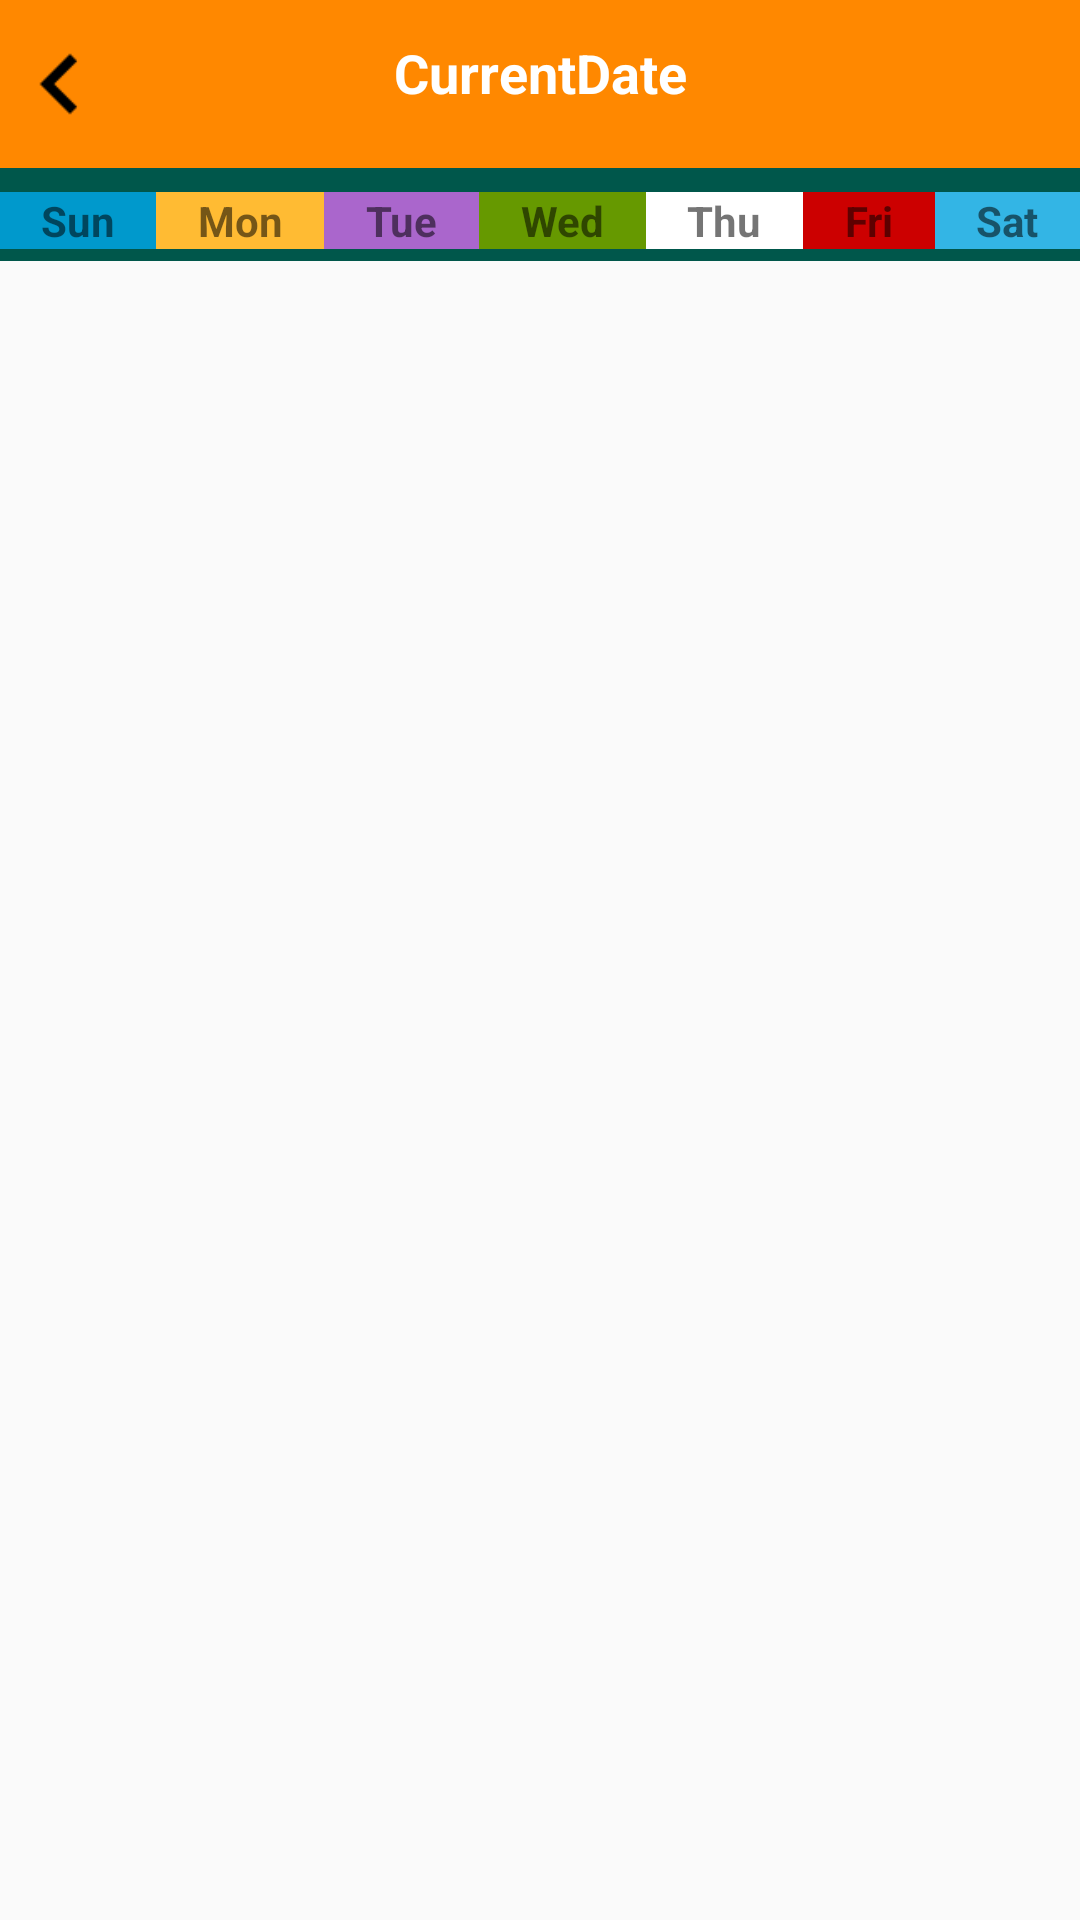

Where icons sit on this 1080 × 1920 app screen, as rect(x1, y1, x2, y2):
navigate previous: rect(39, 53, 77, 115)
